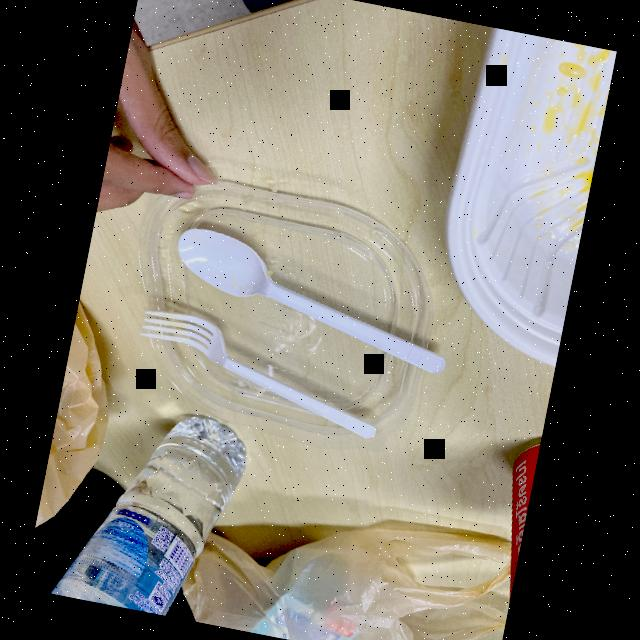plastic_spoon: (156, 216, 465, 394), (116, 300, 399, 448)
